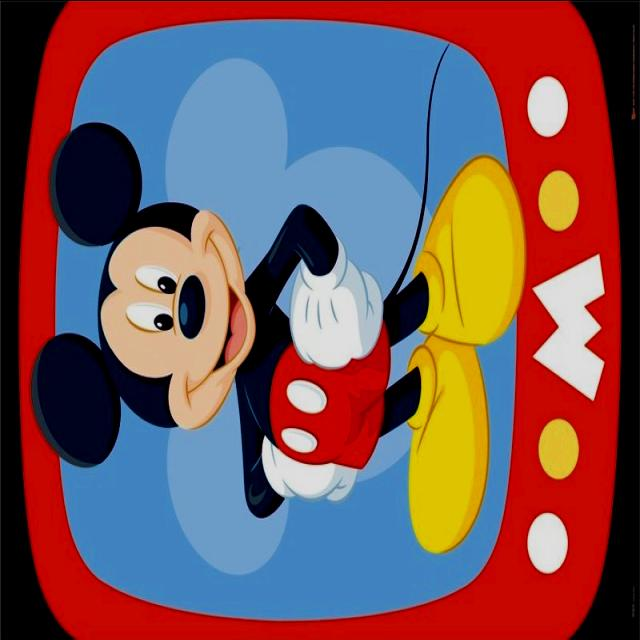mickey: (26, 101, 537, 550)
